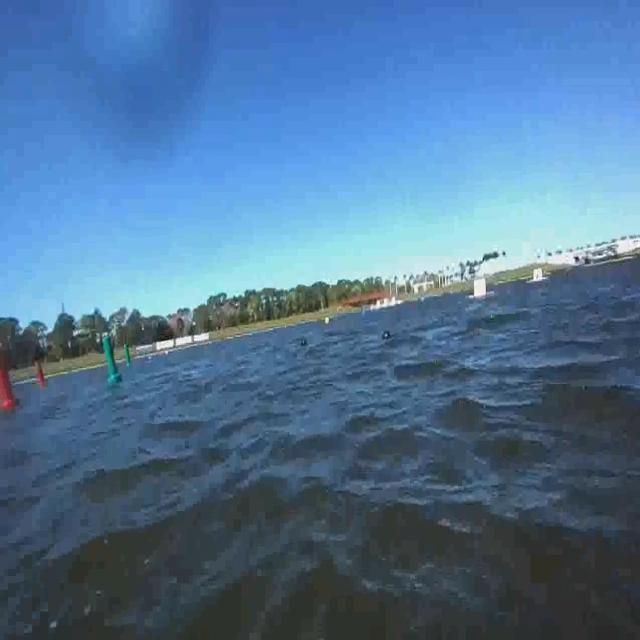black-buoy: (384, 329, 389, 339), (302, 336, 307, 346)
green-column-buoy: (102, 336, 122, 384), (125, 343, 133, 365)
red-column-buoy: (0, 338, 19, 410), (32, 356, 45, 386)
